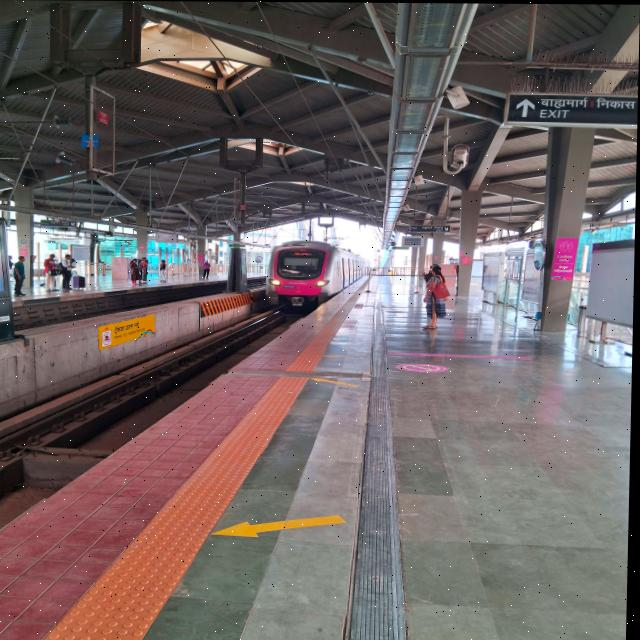train: (260, 231, 369, 308)
